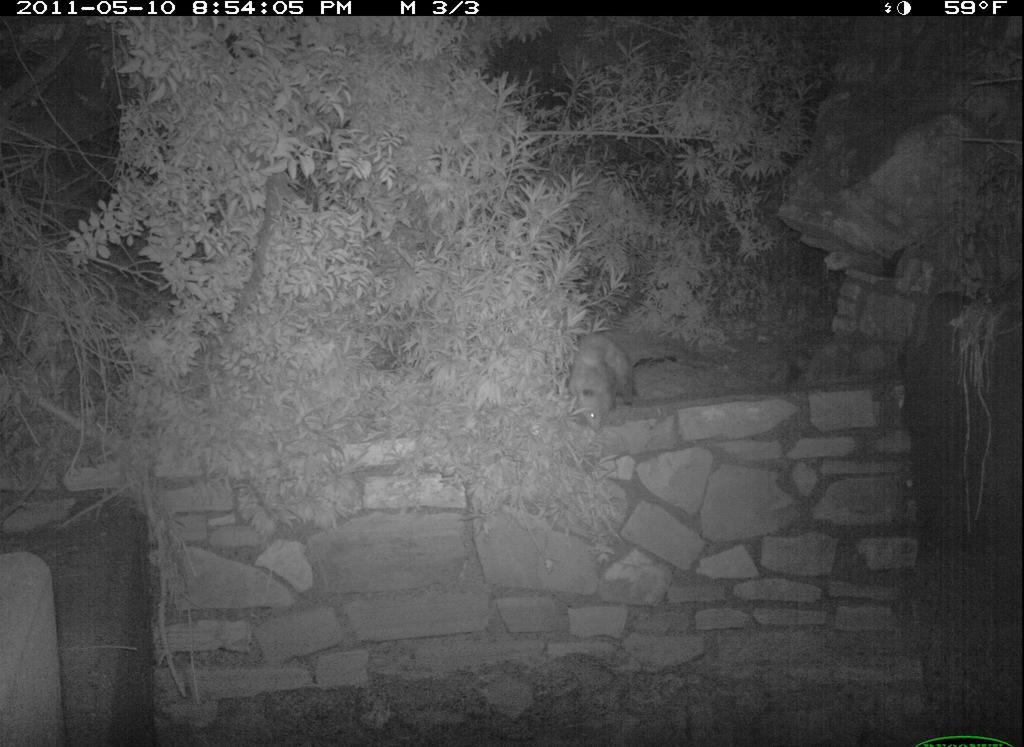opossum: (550, 323, 696, 442)
